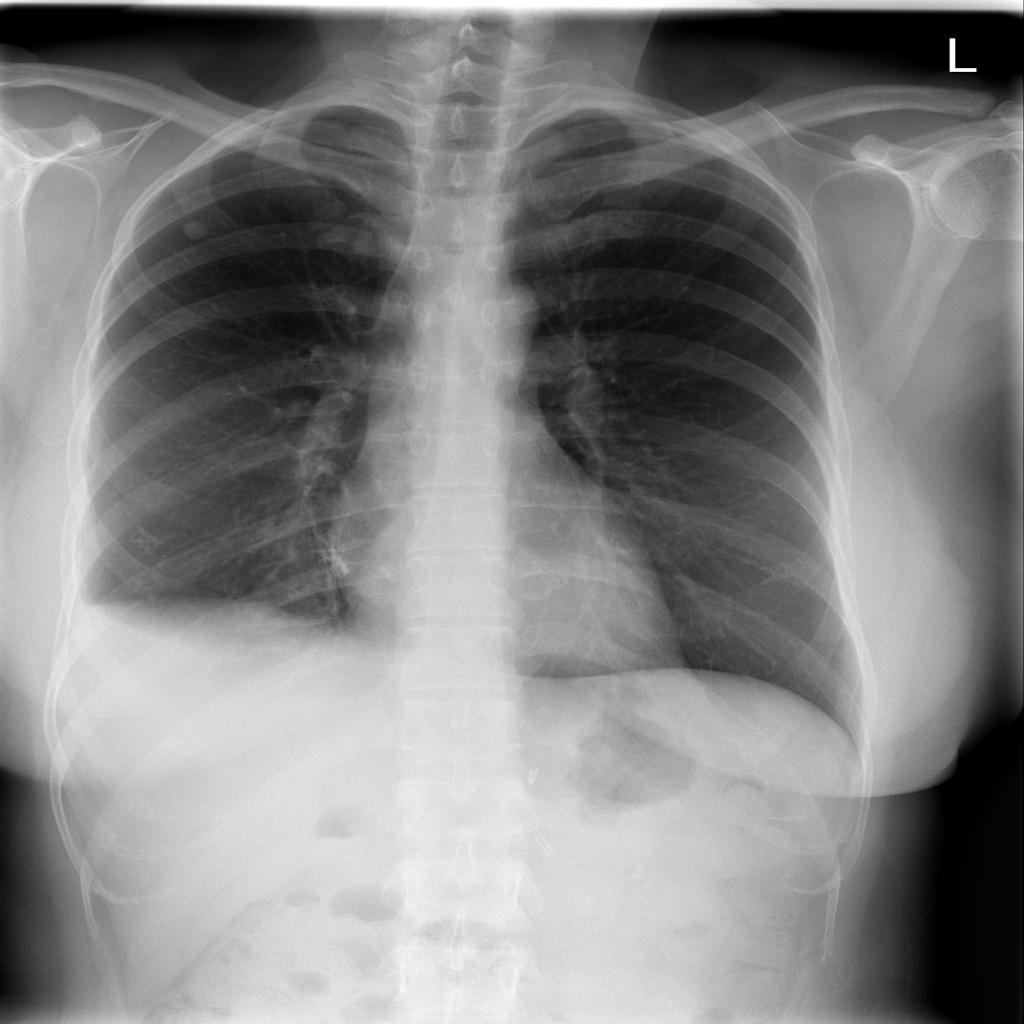nodule: (166, 205, 224, 246)
